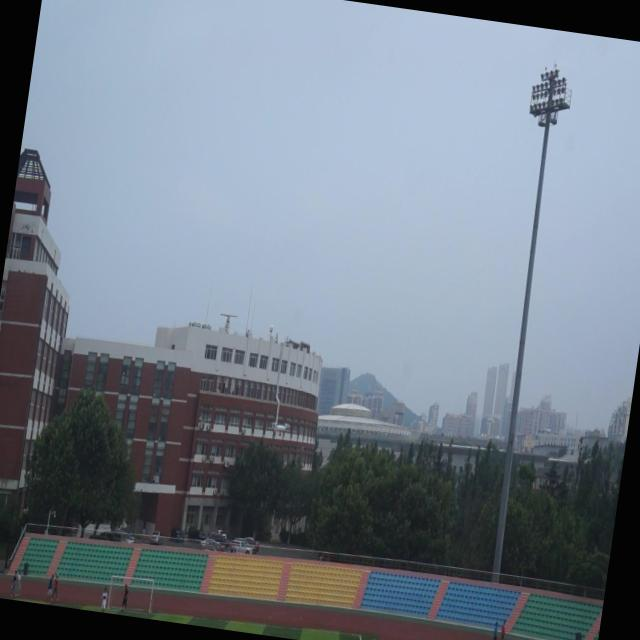drone: (268, 416, 293, 441)
